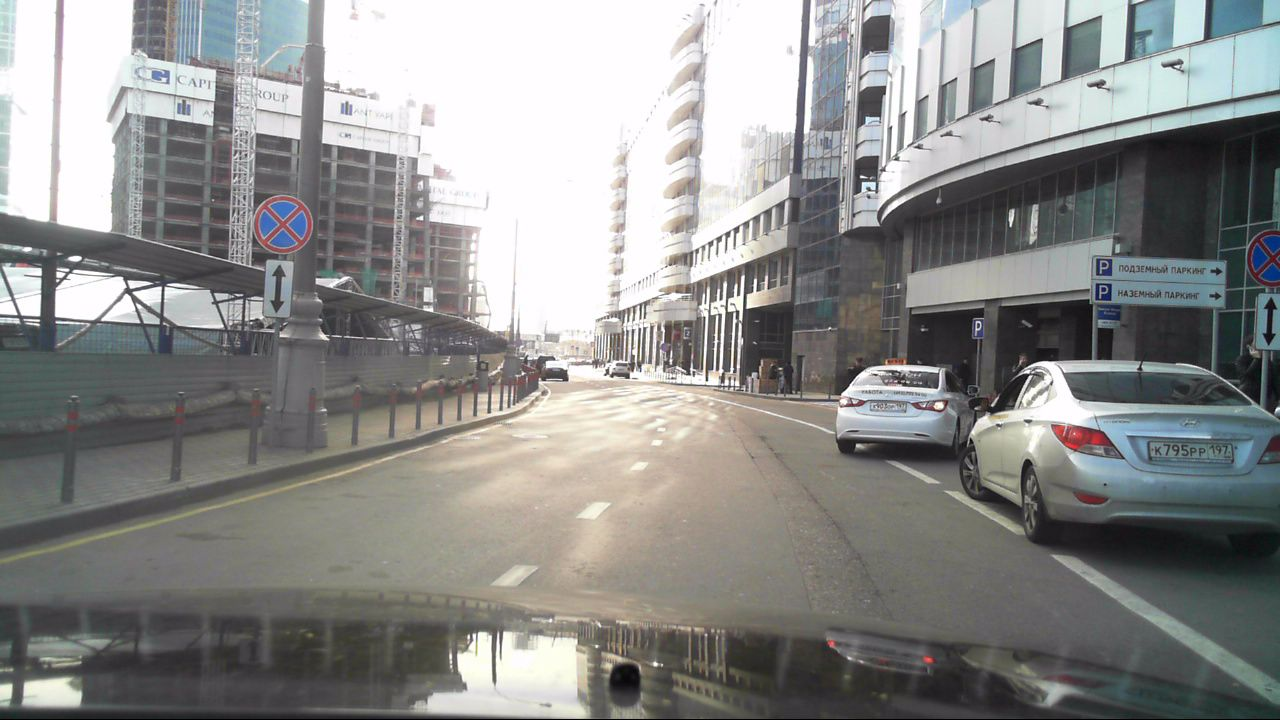No Parking: (1245, 232, 1279, 290)
